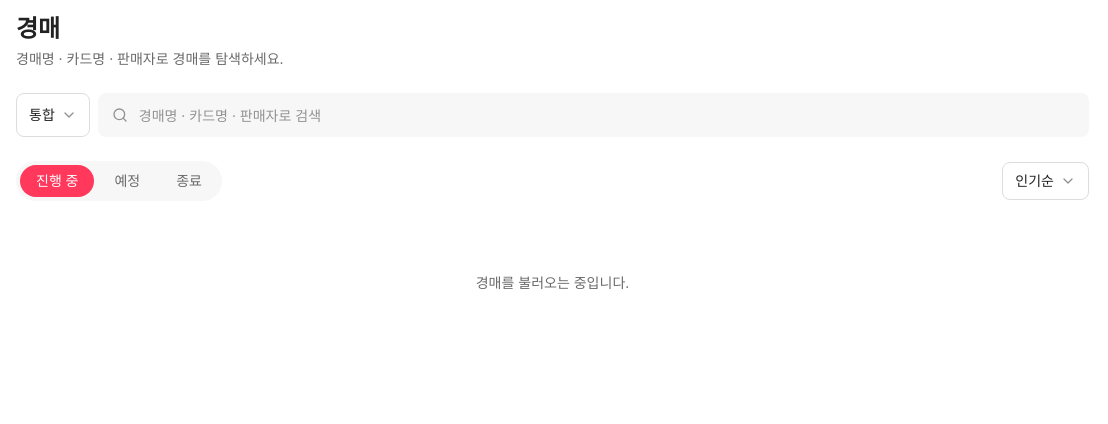
Test: 경매 목록 라우트 › 진행 중 탭에서는 ["시작 임박순"] 을 제외한 정렬 기준만 보여준다
This screenshot has width=1108, height=424.
Press the mouse on the tab "진행 중" at (57, 181), box [20,165,94,197]
Press Enter in the button "인기순", box [1002,162,1089,200]
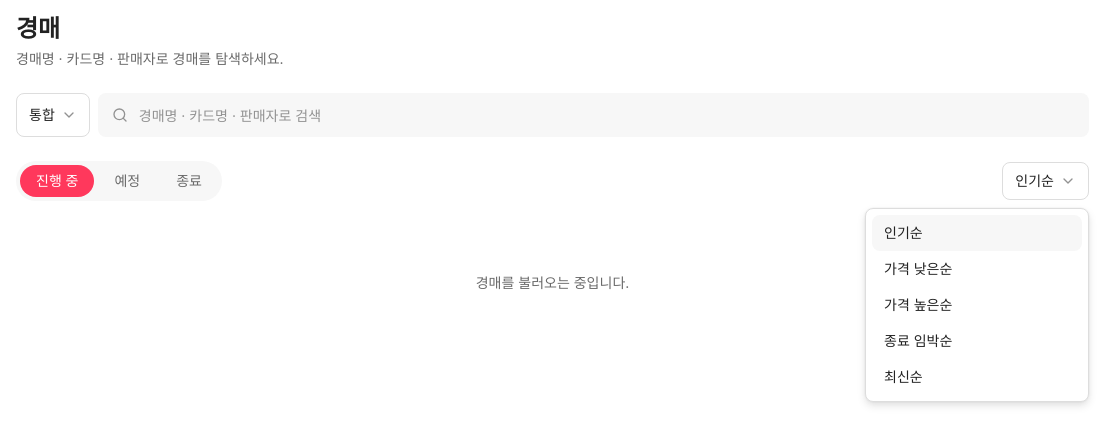
Check: the menu item "인기순" is shown, box [872,215,1082,251]
Check: the menu item "가격 낮은순" is shown, box [884,260,952,277]
Check: the menu item "가격 높은순" is shown, box [884,296,952,313]
